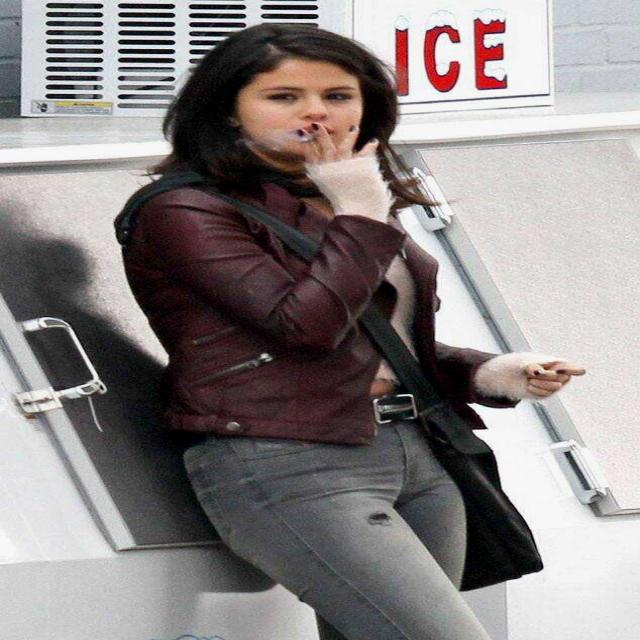Smooking: (286, 121, 314, 146)
